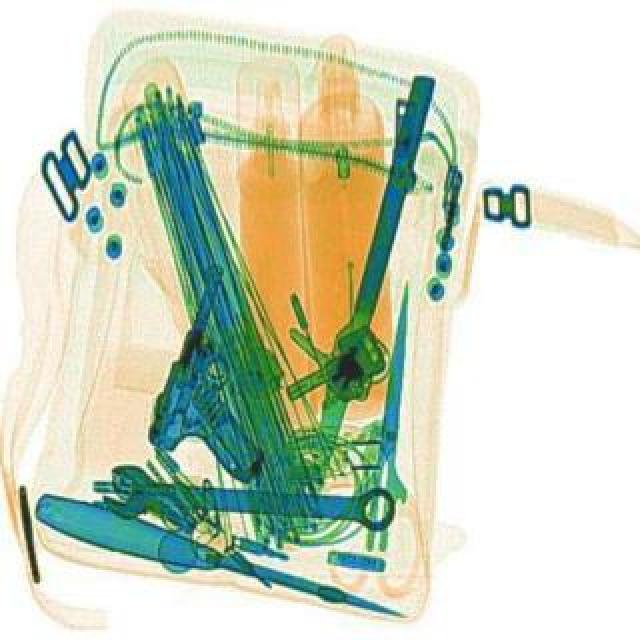gun: (132, 258, 328, 484), (348, 278, 430, 548)
knife: (296, 72, 436, 518), (30, 484, 414, 632)
scissors: (100, 458, 396, 530)
